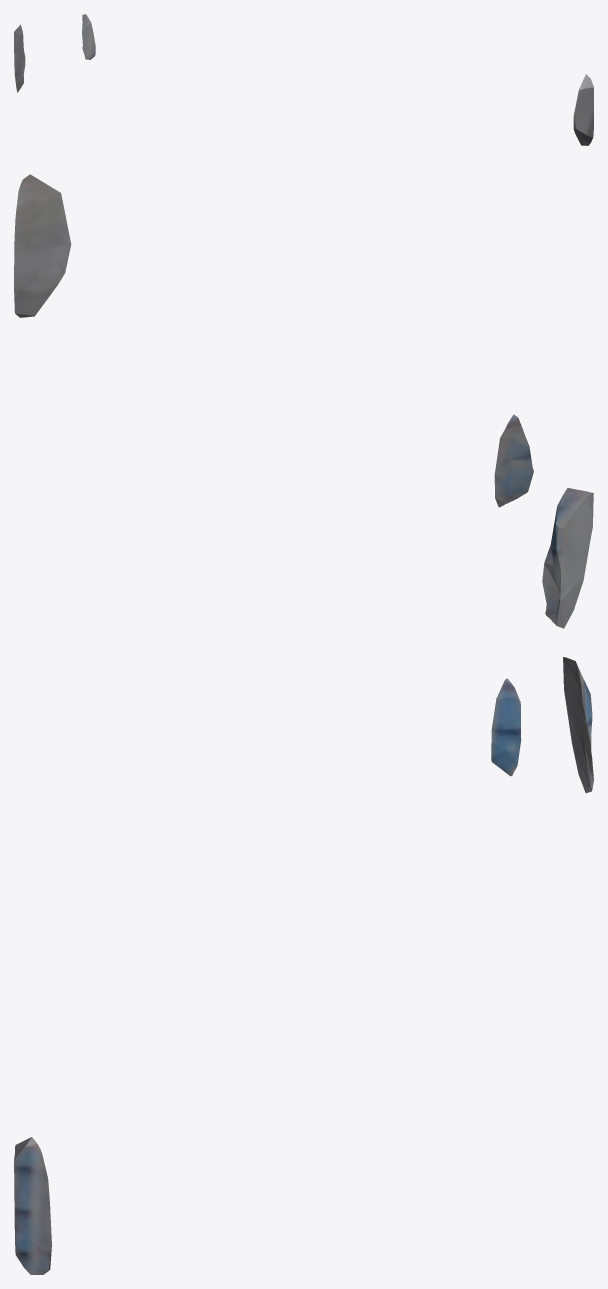
3 views of the same model, one above another, from view 1: azimuth 30°, elevation 25°; view 2: azimuth 150°, elevation 25°; view 3: azimuth 270°, elevation 25° (orthographic). The views are drawn at different scales.
Bounding box in the file's own units: 1.16 × 0.3364 × 0.7117.
1 material, 1 textured.
